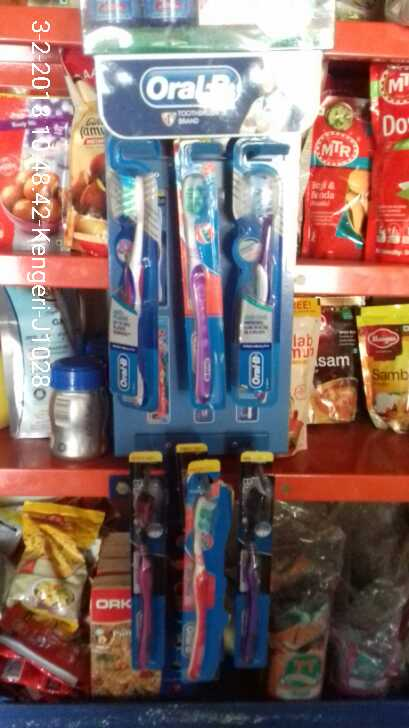oralb: (104, 133, 162, 410), (174, 139, 231, 410), (234, 138, 279, 404), (130, 452, 165, 671), (188, 458, 223, 673), (238, 449, 269, 668)
